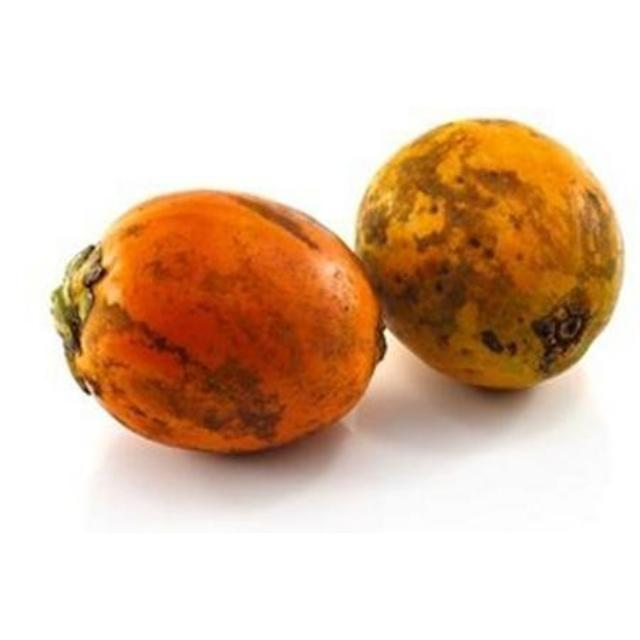good: (50, 189, 387, 457), (353, 120, 626, 393)
